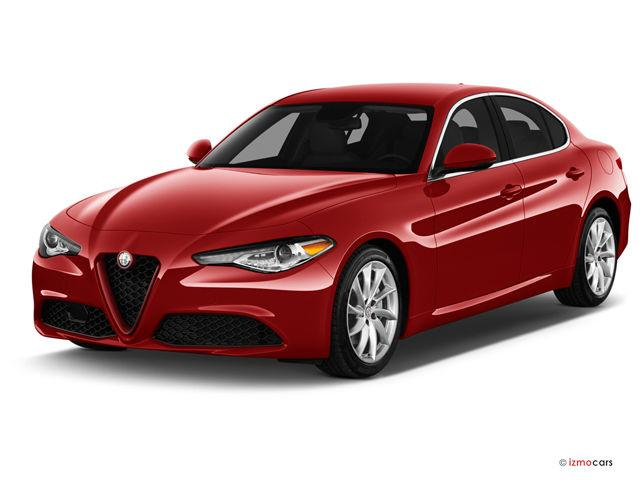alpha-romeo: (30, 80, 632, 380)
